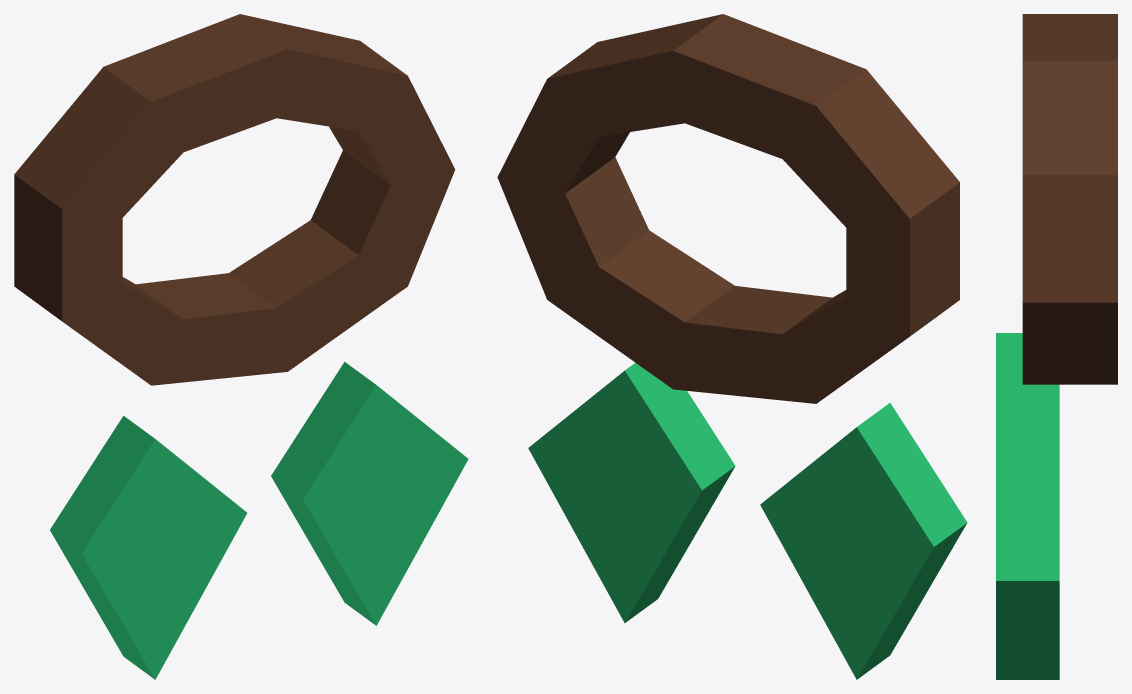
The model's file is vine_binding.obj.
The picture shows the model from 3 angles, left to right: view 1: azimuth 30°, elevation 25°; view 2: azimuth 150°, elevation 25°; view 3: azimuth 270°, elevation 25°; orthographic projection. The views are drawn at different scales.
Visible parts, largest first — view 1: vine_loop, vine_leaf_0.12, vine_leaf_-0.12, vine_leaf_0.12_edge, vine_leaf_-0.12_edge; view 2: vine_loop, vine_leaf_-0.12, vine_leaf_0.12, vine_leaf_-0.12_edge, vine_leaf_0.12_edge; view 3: vine_loop, vine_leaf_0.12_edge, vine_leaf_-0.12_edge.
Boxes of the visible parts, x1,y1,x2,y2 form: vine_loop: (14, 14, 455, 385); vine_leaf_0.12: (303, 385, 468, 625); vine_leaf_-0.12: (81, 439, 247, 679); vine_leaf_0.12_edge: (271, 361, 376, 625); vine_leaf_-0.12_edge: (50, 416, 154, 679); vine_loop: (497, 14, 959, 403); vine_leaf_-0.12: (760, 427, 933, 679); vine_leaf_0.12: (528, 370, 701, 622); vine_leaf_-0.12_edge: (857, 403, 967, 679); vine_leaf_0.12_edge: (625, 363, 735, 622); vine_loop: (1022, 14, 1117, 384); vine_leaf_0.12_edge: (996, 440, 1059, 679); vine_leaf_-0.12_edge: (996, 333, 1059, 440).
Size of the model in its own units: 0.4267 by 0.6074 by 0.115.
